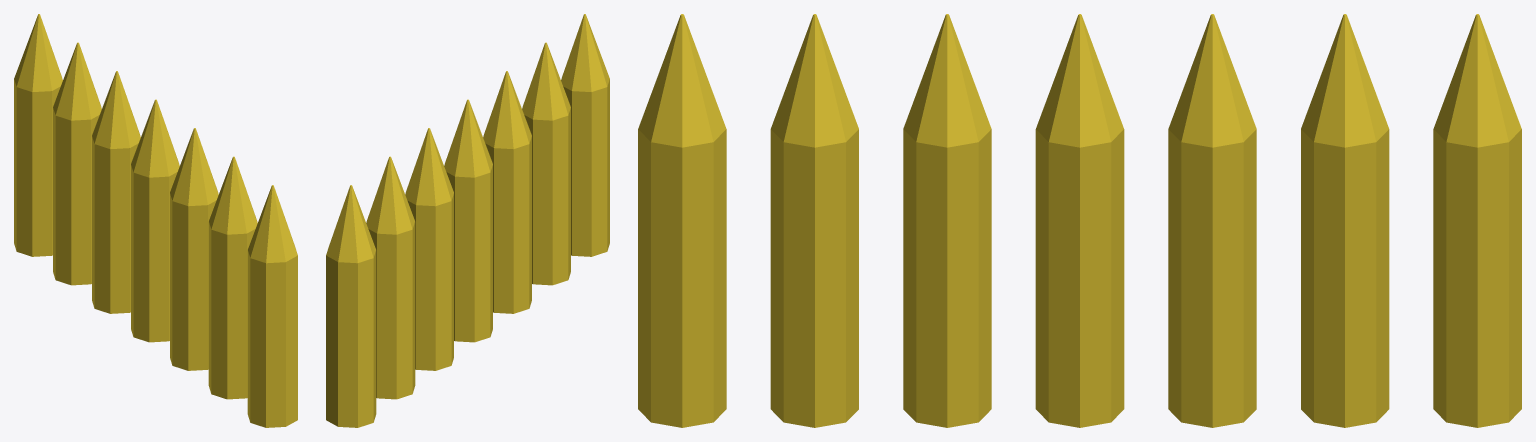
Rendered from Pistol_ammo.glb.
3 renders of one model, left to right at view 1: azimuth 30°, elevation 25°; view 2: azimuth 150°, elevation 25°; view 3: azimuth 270°, elevation 25°, orthographic. The views are drawn at different scales.
Visible parts, largest first — view 1: Cylinder; view 2: Cylinder; view 3: Cylinder.
Boxes of the visible parts, bbox=[...] form: Cylinder: bbox=[14, 14, 297, 427]; Cylinder: bbox=[326, 14, 609, 427]; Cylinder: bbox=[638, 14, 1521, 427].
Bounding box in the file's own units: 0.2 × 0.9854 × 2.
